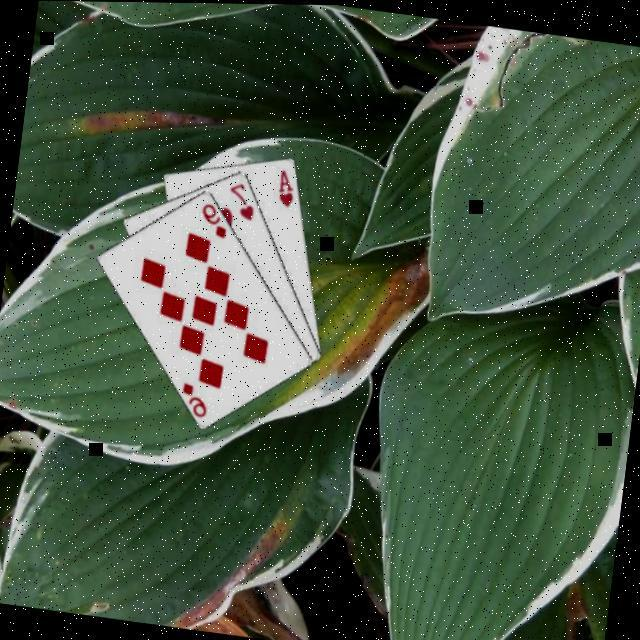7H: (221, 176, 258, 222)
9D: (194, 197, 230, 239), (174, 376, 210, 418)
AH: (272, 164, 296, 208)
